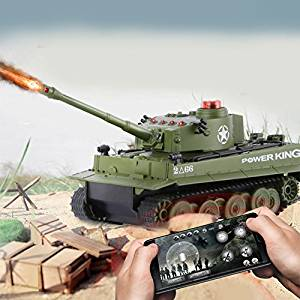Battle Tank: (65, 81, 298, 217)
